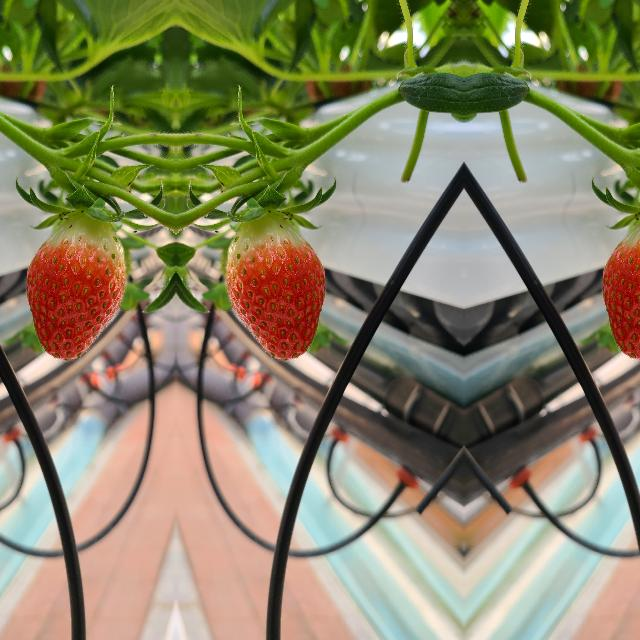Health_100: (23, 213, 126, 363), (224, 213, 326, 363), (599, 213, 640, 363)
